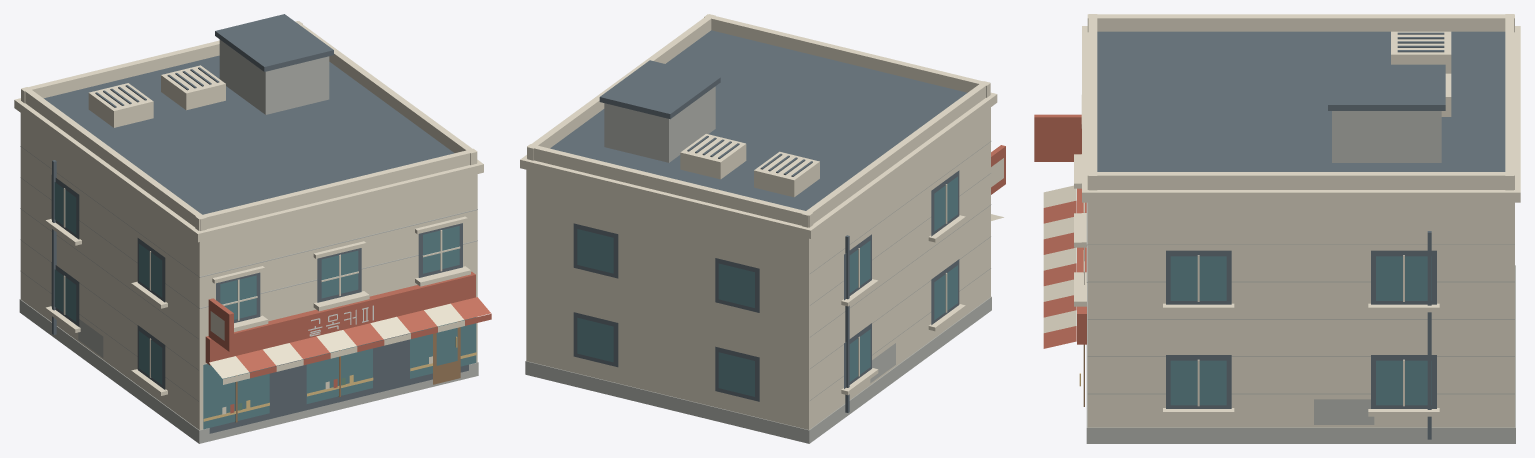
Rendered from q01-cafe.glb.
The picture shows the model from 3 angles, left to right: view 1: azimuth 30°, elevation 25°; view 2: azimuth 150°, elevation 25°; view 3: azimuth 270°, elevation 25°; orthographic projection. The views are drawn at different scales.
Size of the model in its own units: 7.34 by 6.31 by 8.87.
